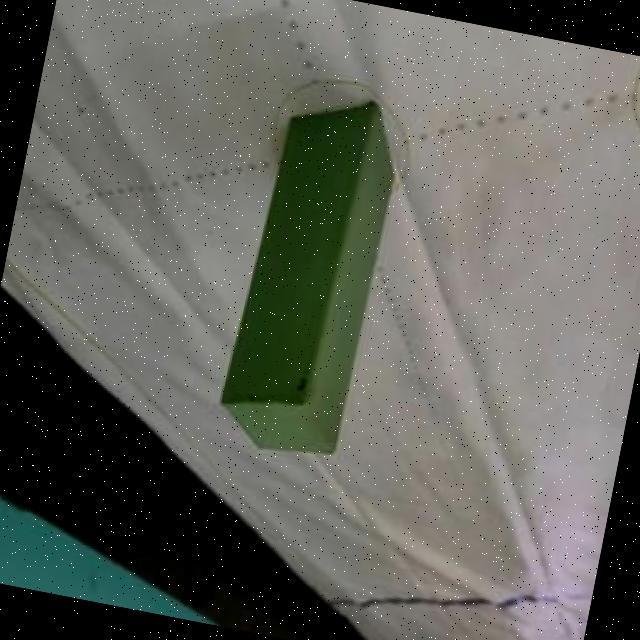greenbox: (209, 85, 411, 466)
